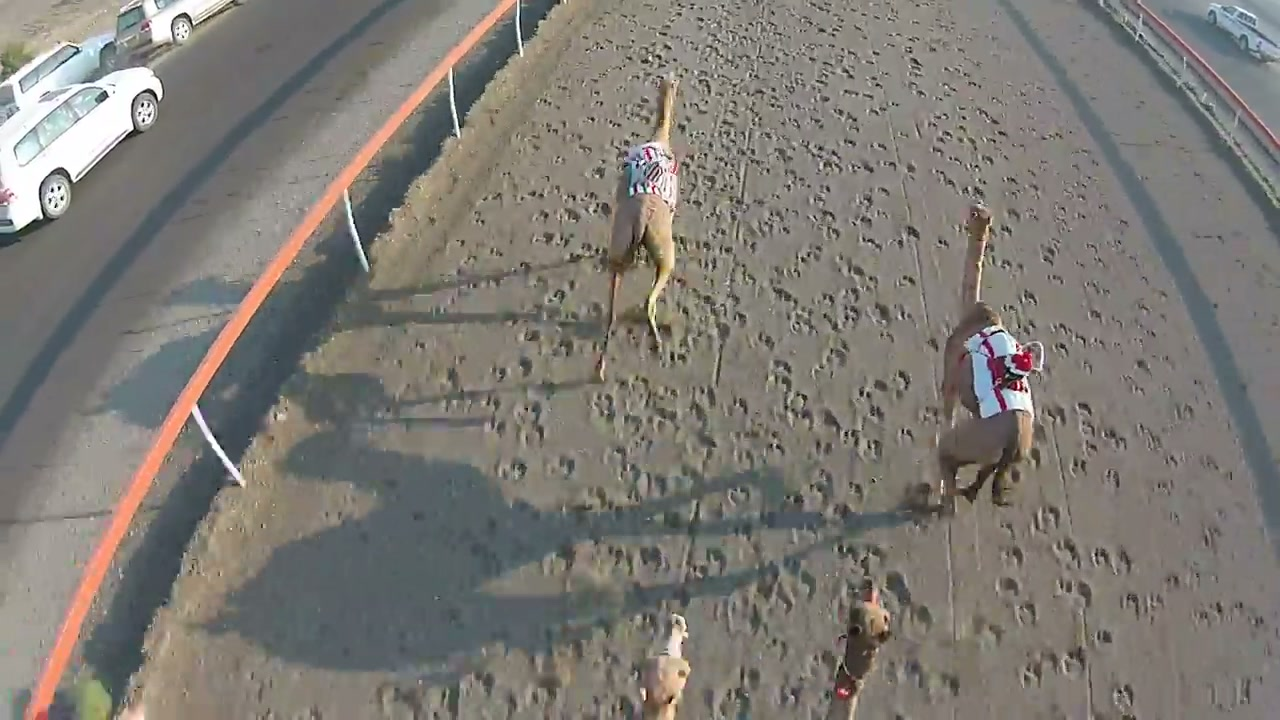animal_foot_print: (680, 22, 942, 698), (495, 0, 726, 713), (862, 76, 1099, 708), (1004, 138, 1190, 613)
